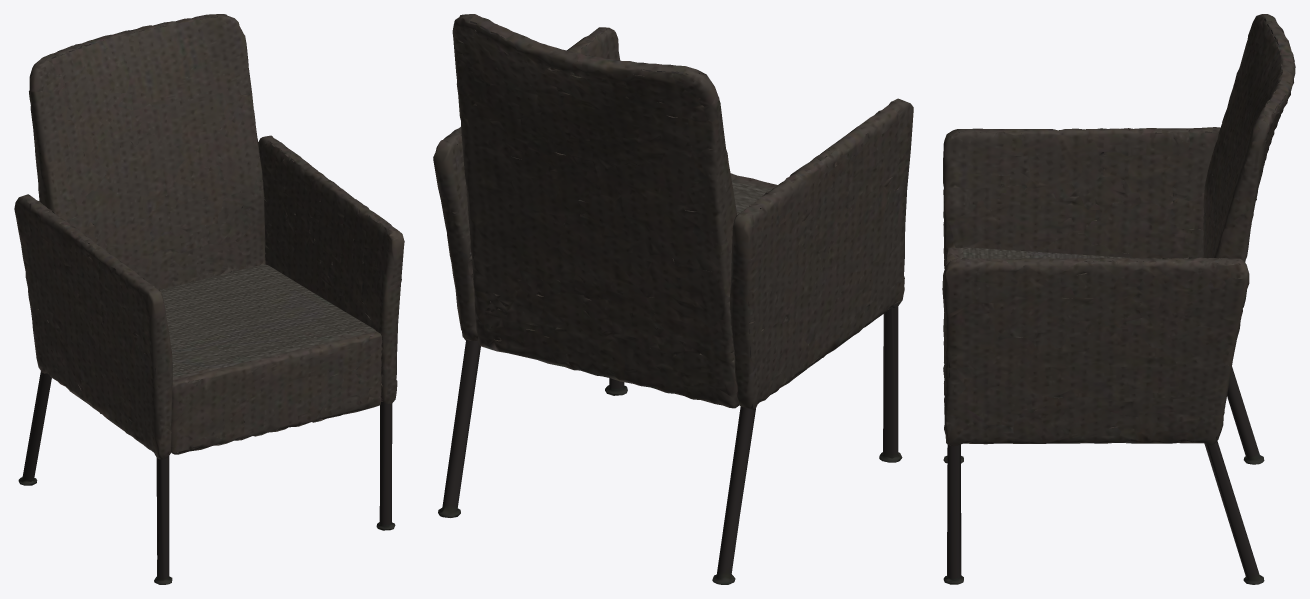
The model's file is vittskar-armchair-outdoor-dark-grey.glb.
3 views of the same model, side by side, from view 1: azimuth 30°, elevation 25°; view 2: azimuth 150°, elevation 25°; view 3: azimuth 270°, elevation 25° (orthographic). The views are drawn at different scales.
Parts seen in each view (by area): view 1: ASY_ART_20575167_S01_NV01, ASY_LPT02_20575167_S01_NV01, ASY_LPT03_20575167_S01_NV01; view 2: ASY_ART_20575167_S01_NV01, ASY_LPT02_20575167_S01_NV01, ASY_LPT03_20575167_S01_NV01; view 3: ASY_ART_20575167_S01_NV01, ASY_LPT03_20575167_S01_NV01, ASY_LPT02_20575167_S01_NV01.
Part boxes in pixels (left/top/right/bottom): ASY_ART_20575167_S01_NV01: left=14, top=14, right=404, bottom=459; ASY_LPT02_20575167_S01_NV01: left=18, top=203, right=172, bottom=584; ASY_LPT03_20575167_S01_NV01: left=276, top=147, right=395, bottom=530; ASY_ART_20575167_S01_NV01: left=433, top=14, right=913, bottom=410; ASY_LPT02_20575167_S01_NV01: left=712, top=156, right=902, bottom=584; ASY_LPT03_20575167_S01_NV01: left=438, top=45, right=627, bottom=517; ASY_ART_20575167_S01_NV01: left=942, top=14, right=1295, bottom=446; ASY_LPT03_20575167_S01_NV01: left=943, top=263, right=1264, bottom=584; ASY_LPT02_20575167_S01_NV01: left=943, top=367, right=1264, bottom=464.
Size of the model in its own units: 0.6124 by 0.9454 by 0.6579.
6 materials, 6 textured.
